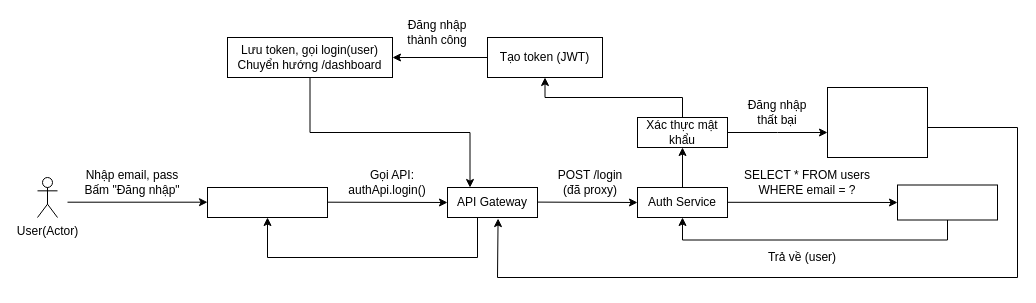
Some shapes in this 1036 by 303 pixel diagram are drawn without their labels. The shapes that lost their labels are listed below. From the top down, each one's centre as x and y in pixels, then its label:
pixel 877 122: Hiển thị lỗi "Email hoặc mật khẩu không đúng!"
pixel 267 202: Web App (React)
pixel 947 202: Database (MySQL)
